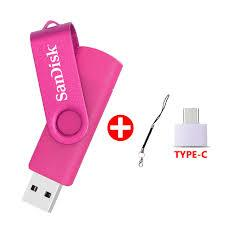Flash-drive: (19, 22, 118, 213)
